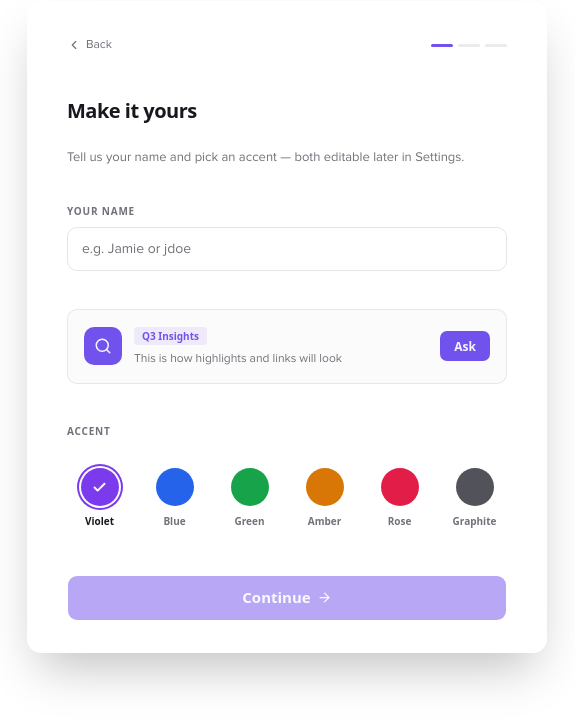
Test case: MakeItYours › shows an inline error and stays on screen when persist fails
Type "Jamie" into the field with placeholder "e.g. Jamie or jdoe".
click(287, 249); type("Jamie")  # box [67,227,507,271]
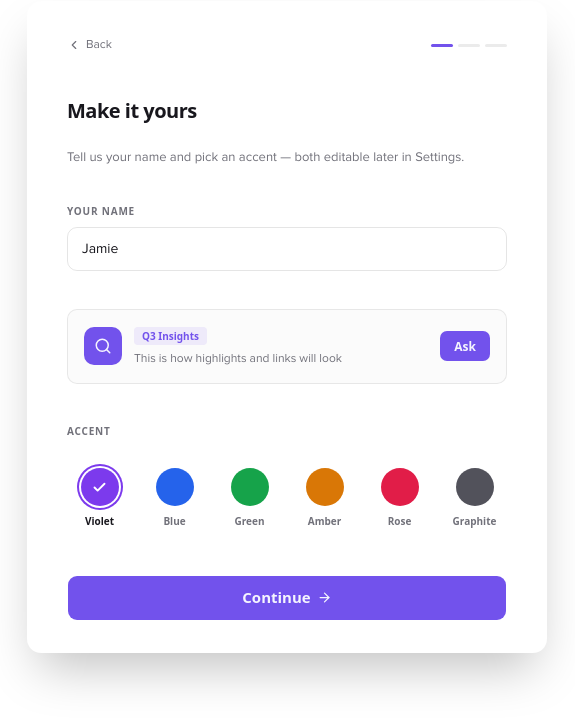
Result: the button "Continue" is enabled
Click the button "Continue".
click(287, 598)  # box [67,575,507,621]
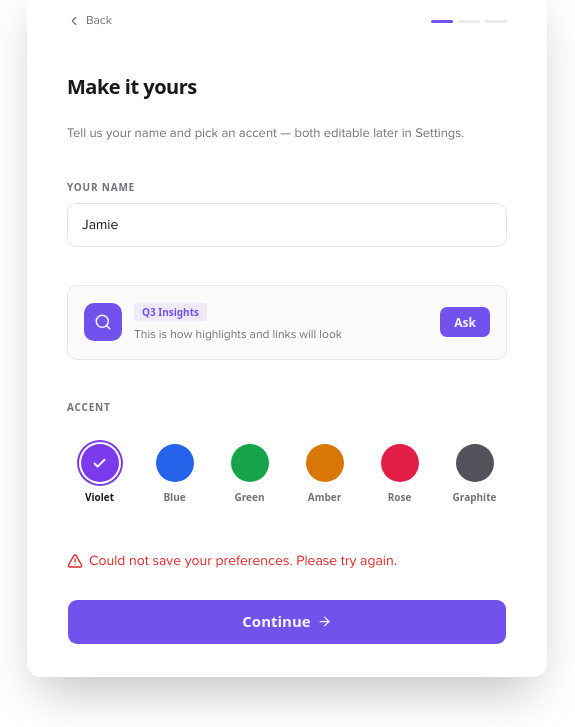
Result: the message shows "Could not save" at [89,552,397,569]
